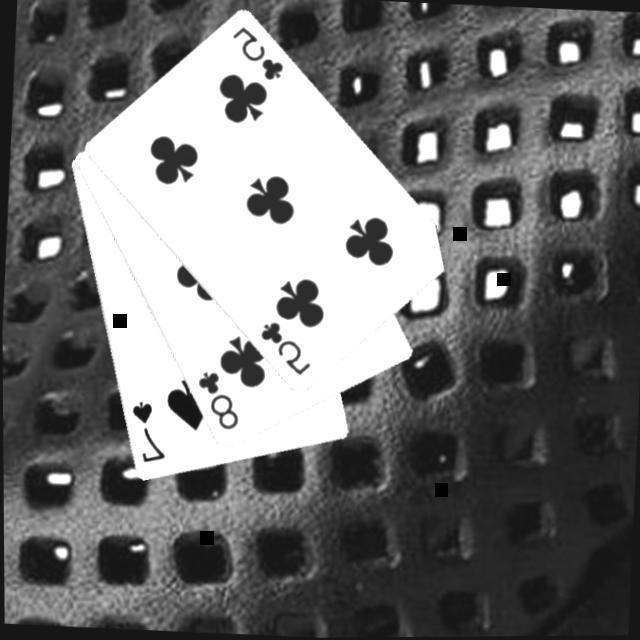5C: (228, 21, 290, 83), (255, 316, 316, 379)
7S: (125, 396, 171, 466)
8C: (192, 367, 244, 433)
